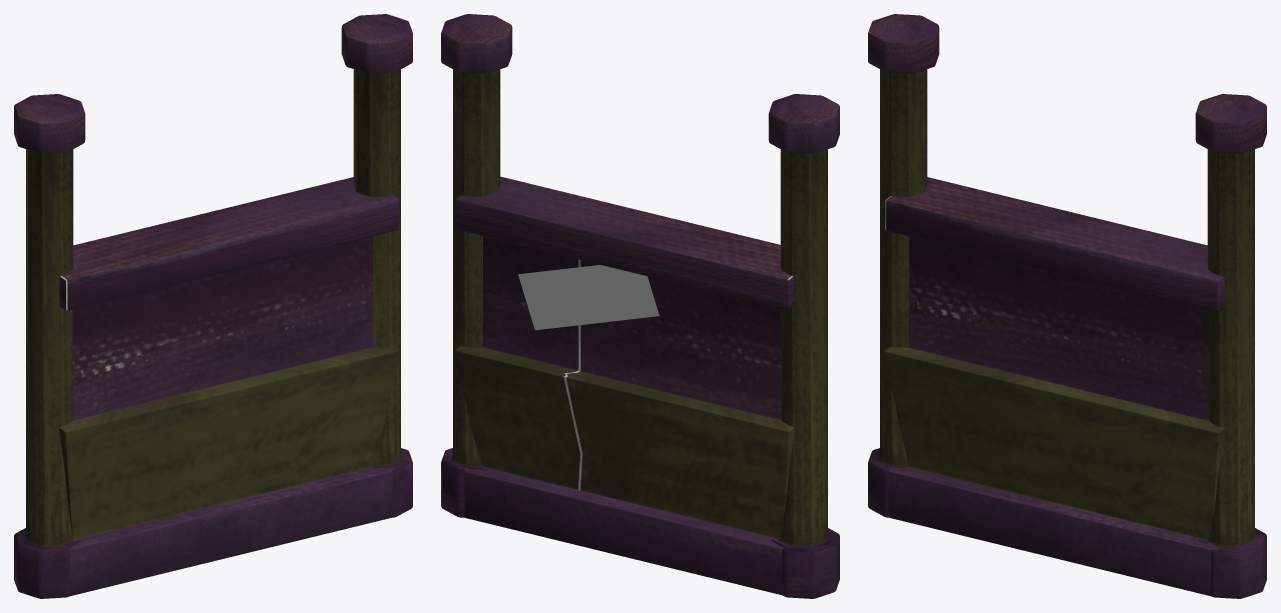
Rendered from MANOR_WALL_2_2_001.obj.
The picture shows the model from 3 angles, left to right: view 1: azimuth 30°, elevation 25°; view 2: azimuth 150°, elevation 25°; view 3: azimuth 330°, elevation 25°; orthographic projection.
Visible parts, largest first — view 1: MANOR_WALL_2_2_001; view 2: MANOR_WALL_2_2_001; view 3: MANOR_WALL_2_2_001.
Part boxes in pixels (bbox=[...]): MANOR_WALL_2_2_001: bbox=[14, 14, 412, 598]; MANOR_WALL_2_2_001: bbox=[441, 14, 839, 598]; MANOR_WALL_2_2_001: bbox=[868, 14, 1266, 598].
Bounding box in the file's own units: 2.57 × 3 × 0.4139.
